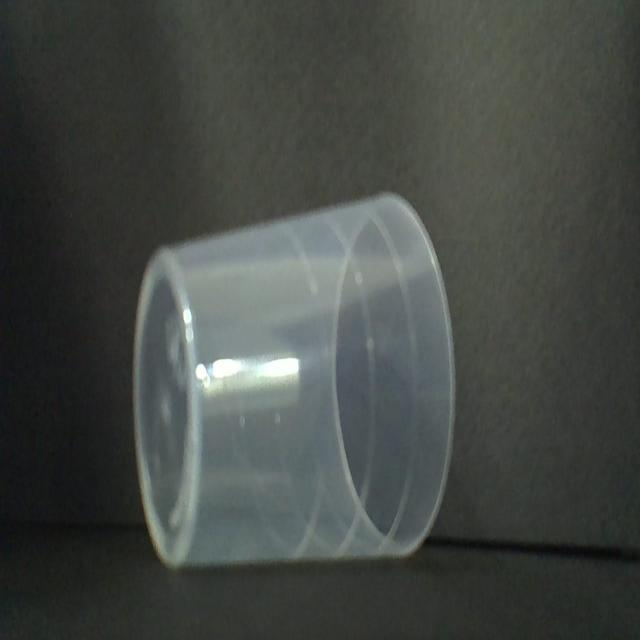cup: (133, 189, 461, 575)
